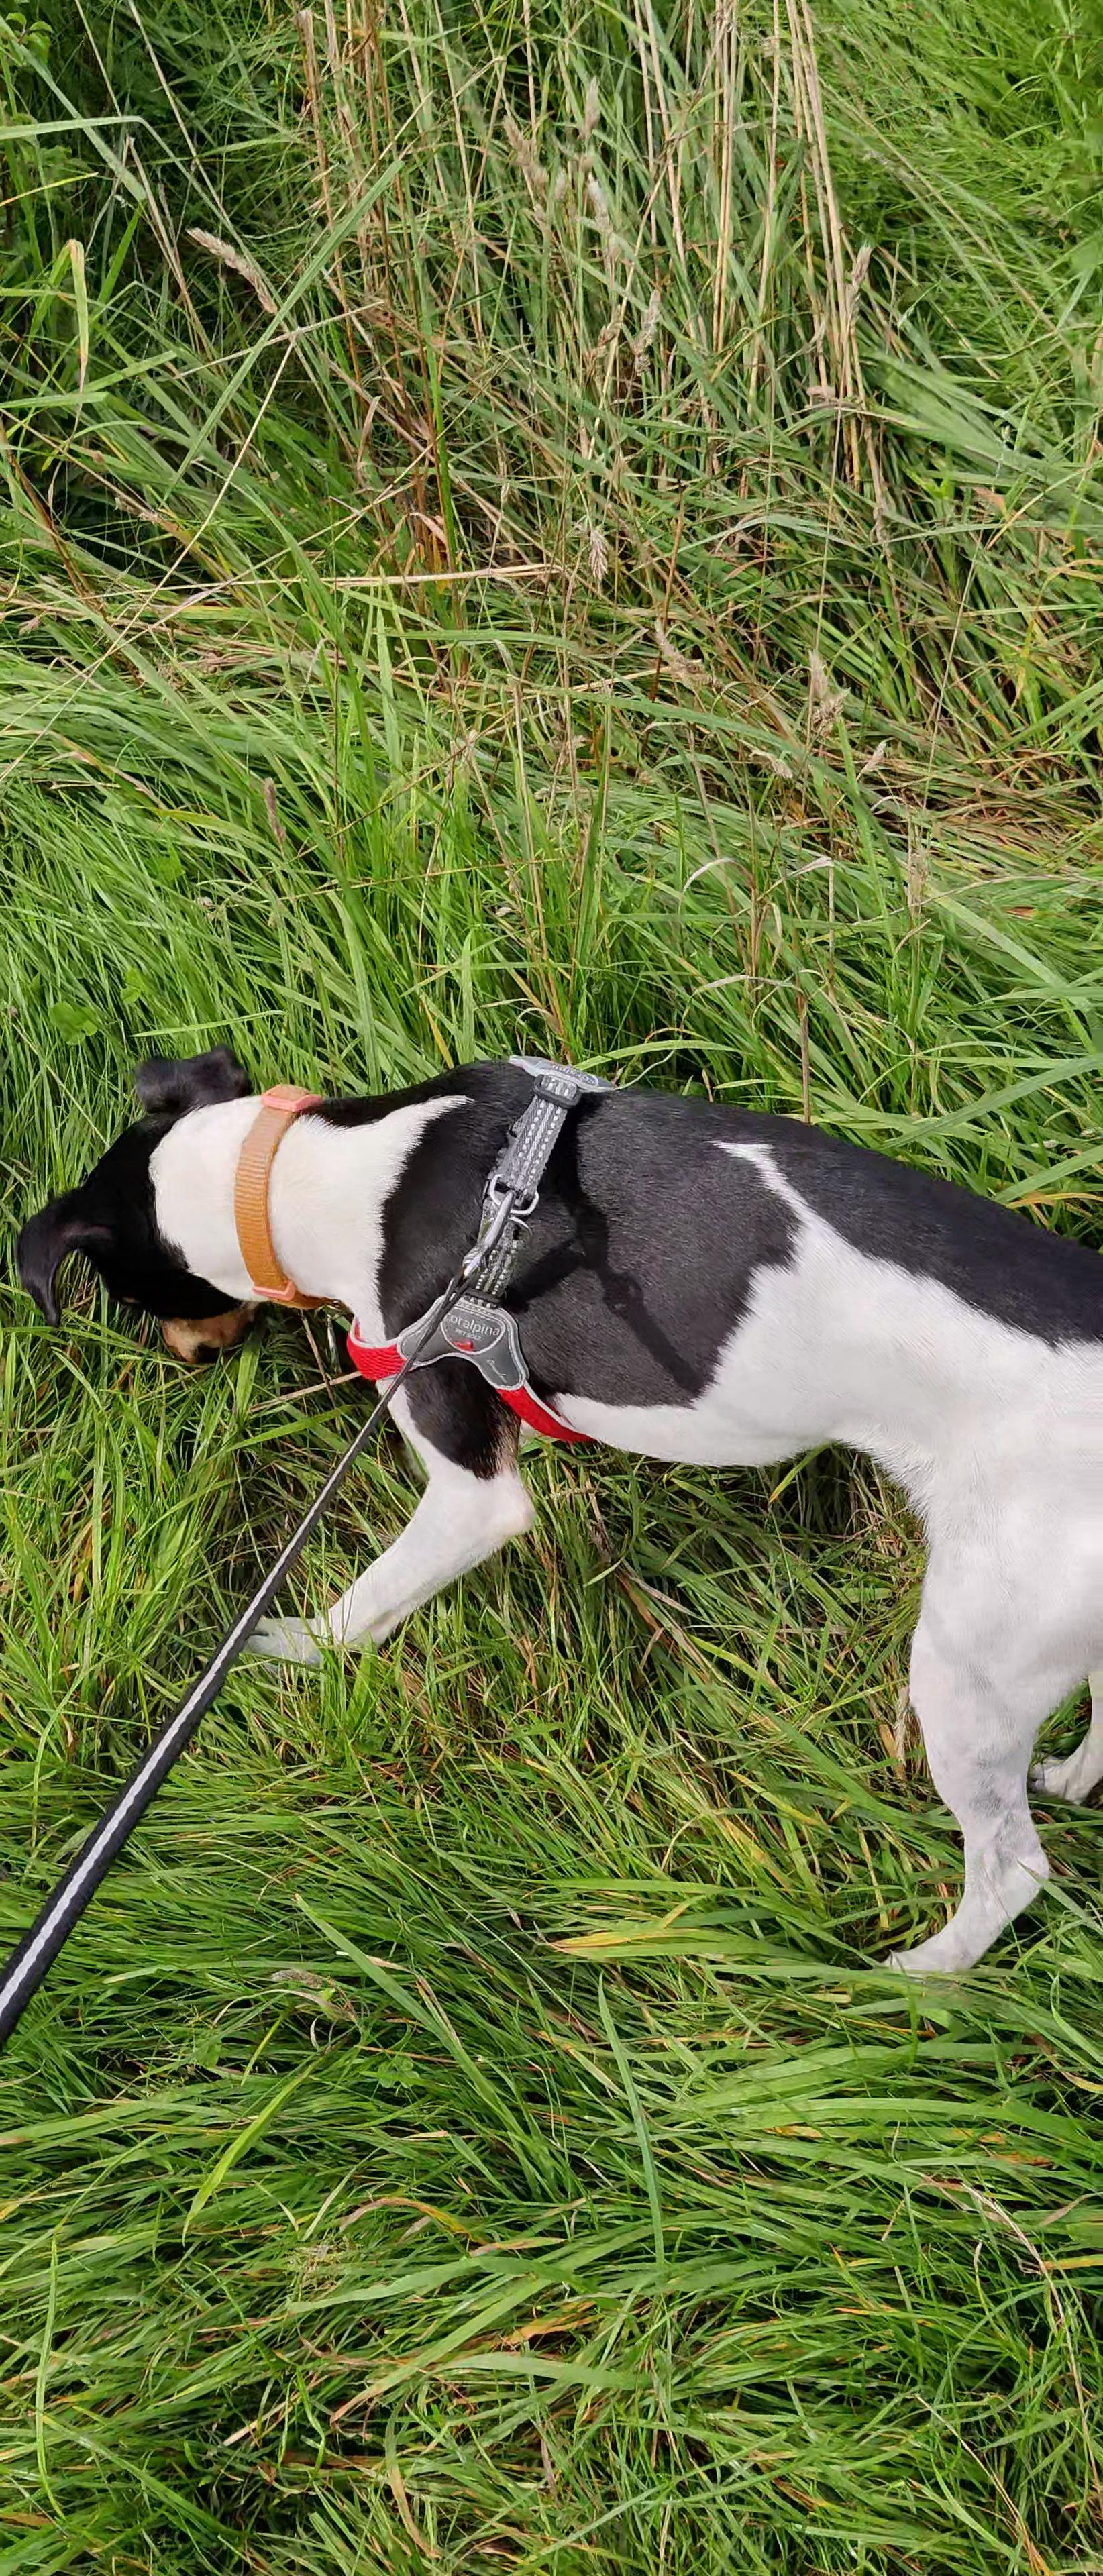Dog: (13, 1004, 1103, 1988)
